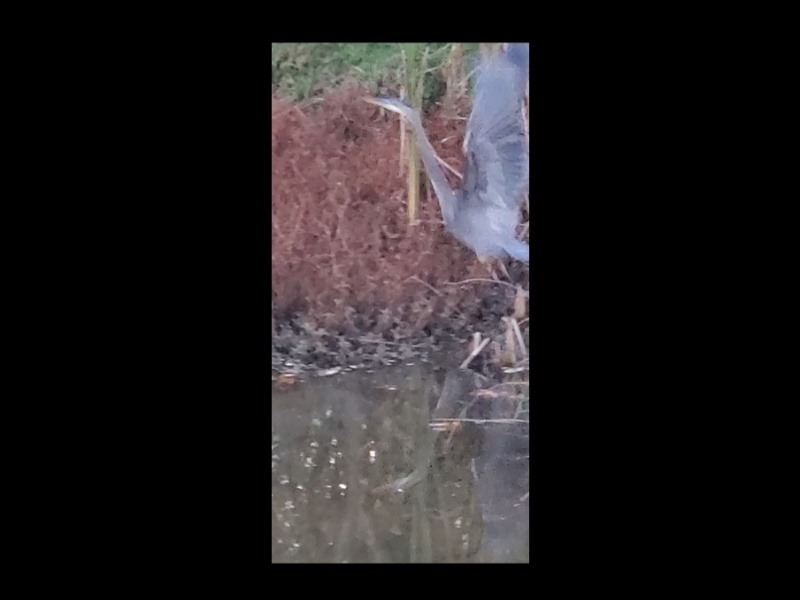heron: (358, 44, 527, 305)
